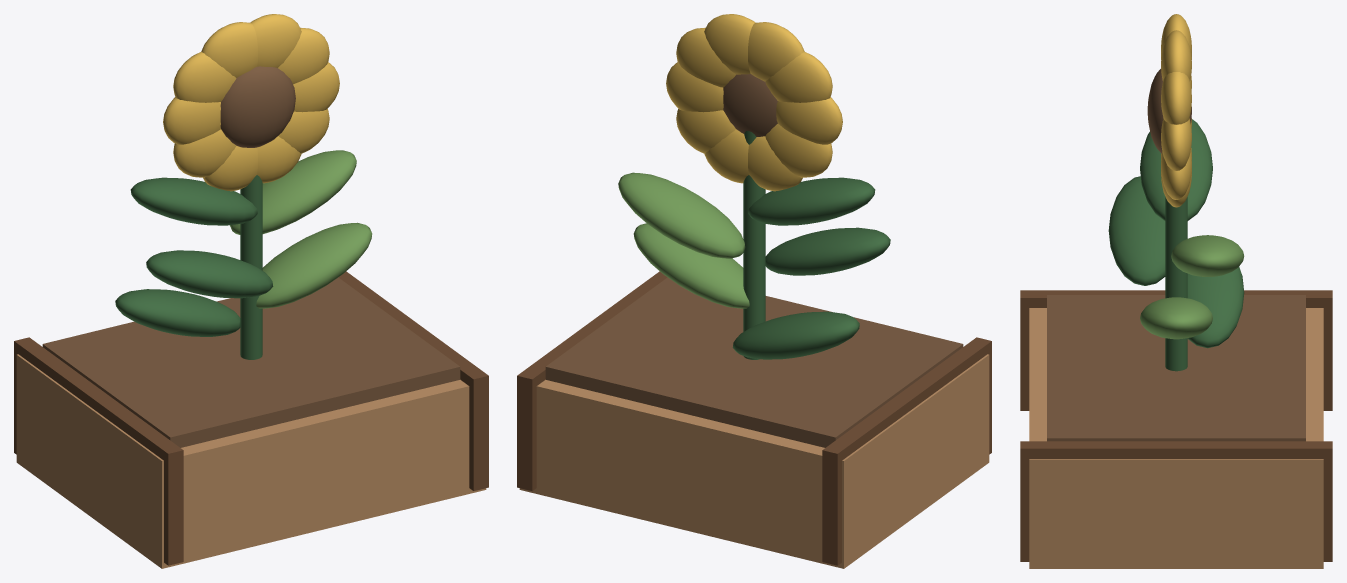
The model's file is plant-marigold.glb.
3 views of the same model, side by side, from view 1: azimuth 30°, elevation 25°; view 2: azimuth 150°, elevation 25°; view 3: azimuth 270°, elevation 25° (orthographic).
Visible parts, largest first — view 1: wood box, soil box, gold sphere (×10), leaf sphere (×3), trim box (×2), lightLeaf sphere (×2), soil sphere, leaf cylinder; view 2: wood box, soil box, gold sphere (×10), leaf sphere (×3), lightLeaf sphere (×2), trim box (×2), leaf cylinder, soil sphere; view 3: wood box, soil box, trim box (×2), leaf sphere (×3), gold sphere (×5), lightLeaf sphere (×2), leaf cylinder, soil sphere.
Part boxes in pixels (box(x1,y1,x2,y2)): wood box: box(16, 354, 486, 568); soil box: box(42, 277, 460, 447); gold sphere (×10): box(163, 14, 339, 191); leaf sphere (×3): box(115, 177, 273, 336); trim box (×2): box(14, 271, 488, 565); lightLeaf sphere (×2): box(230, 150, 372, 308); soil sphere: box(220, 66, 295, 147); leaf cylinder: box(240, 175, 262, 359); wood box: box(519, 354, 989, 568); soil box: box(545, 277, 963, 447); gold sphere (×10): box(666, 14, 842, 191); leaf sphere (×3): box(732, 177, 890, 359); lightLeaf sphere (×2): box(618, 172, 749, 308); trim box (×2): box(517, 271, 991, 565); leaf cylinder: box(743, 131, 765, 359); soil sphere: box(723, 74, 777, 136); wood box: box(1029, 308, 1323, 568); soil box: box(1047, 295, 1305, 441); trim box (×2): box(1020, 290, 1332, 561); leaf sphere (×3): box(1108, 119, 1244, 348); gold sphere (×5): box(1161, 14, 1191, 199); lightLeaf sphere (×2): box(1140, 235, 1244, 339); leaf cylinder: box(1165, 197, 1187, 371); soil sphere: box(1147, 69, 1191, 153).
Size of the model in its own units: 0.85 by 1.14 by 0.7.
